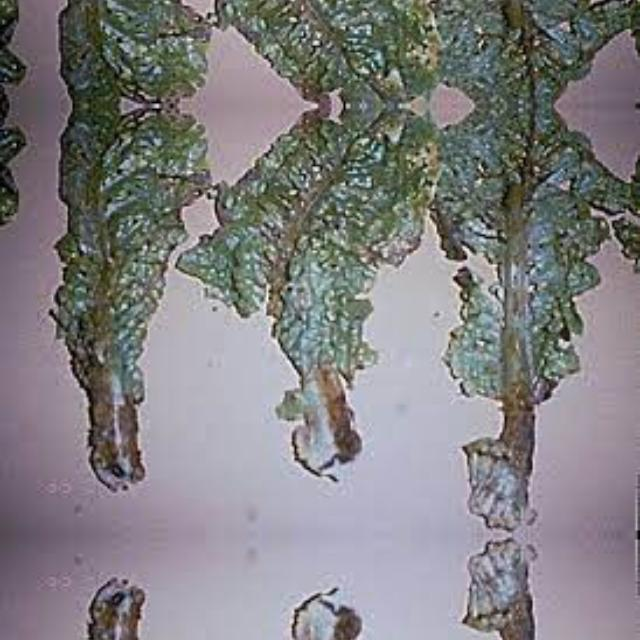Downy_mildew: (424, 106, 598, 510), (254, 105, 421, 478), (62, 109, 176, 489), (424, 0, 598, 104), (253, 0, 420, 105), (424, 559, 598, 640), (61, 0, 176, 101), (253, 591, 420, 640), (61, 580, 176, 640)
